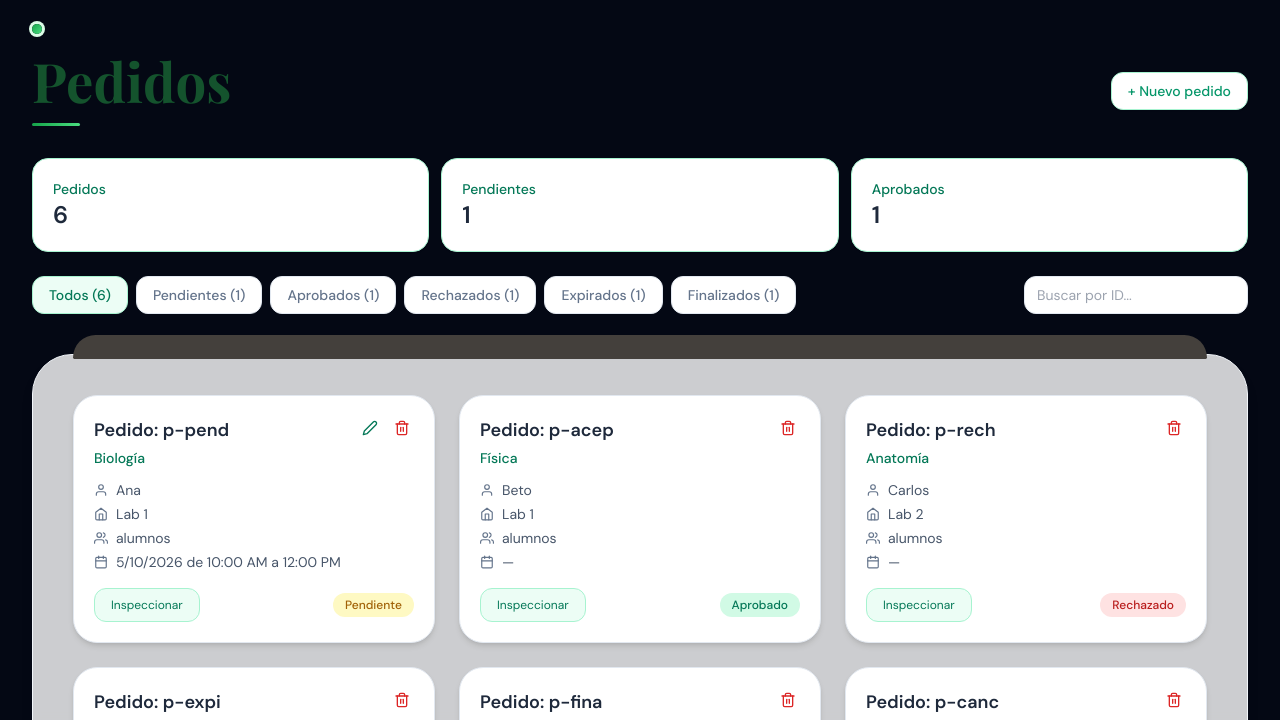
Test: Pedidos — filtros y estados › avisa si no hay permisos para eliminar
The width and height of the screenshot is (1280, 720).
Expected: the text "Biología" is shown, [94,449,145,467]
Click the button titled "Eliminar pedido" in the row of "p-pend" at (402, 428), box [390,416,414,440]
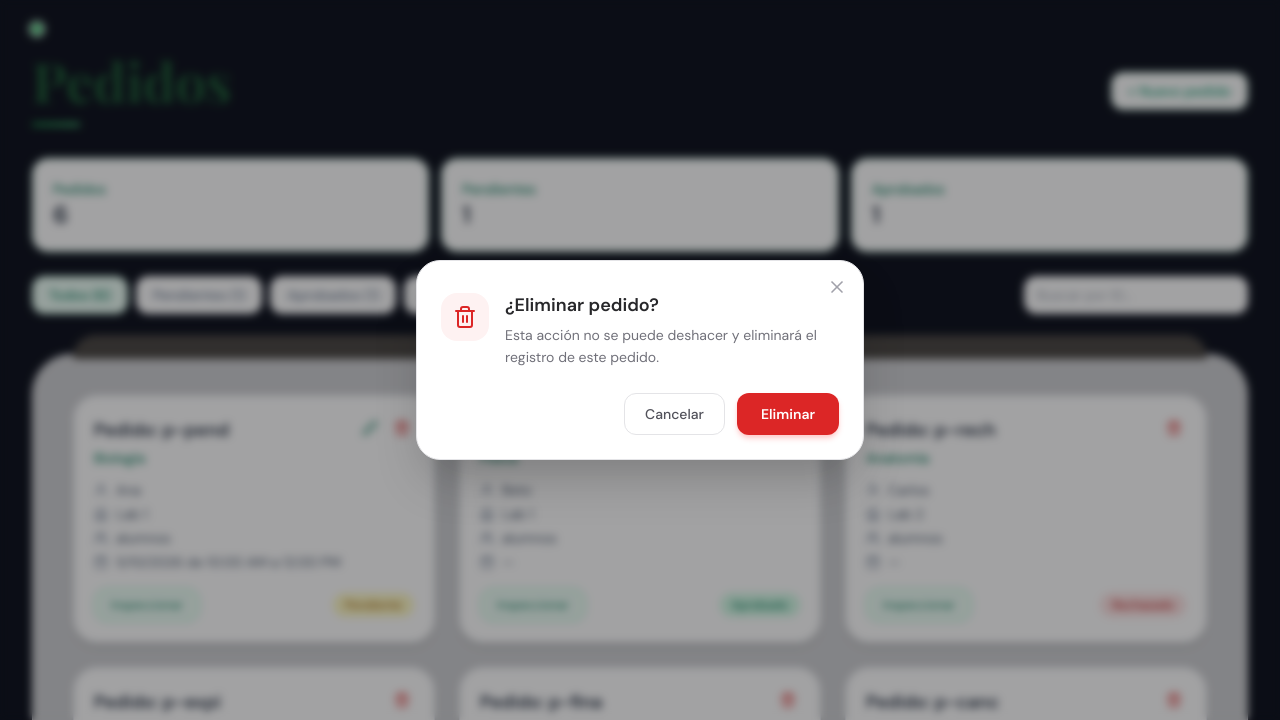
Click the button "Eliminar" at (788, 414), box [737,393,839,435]
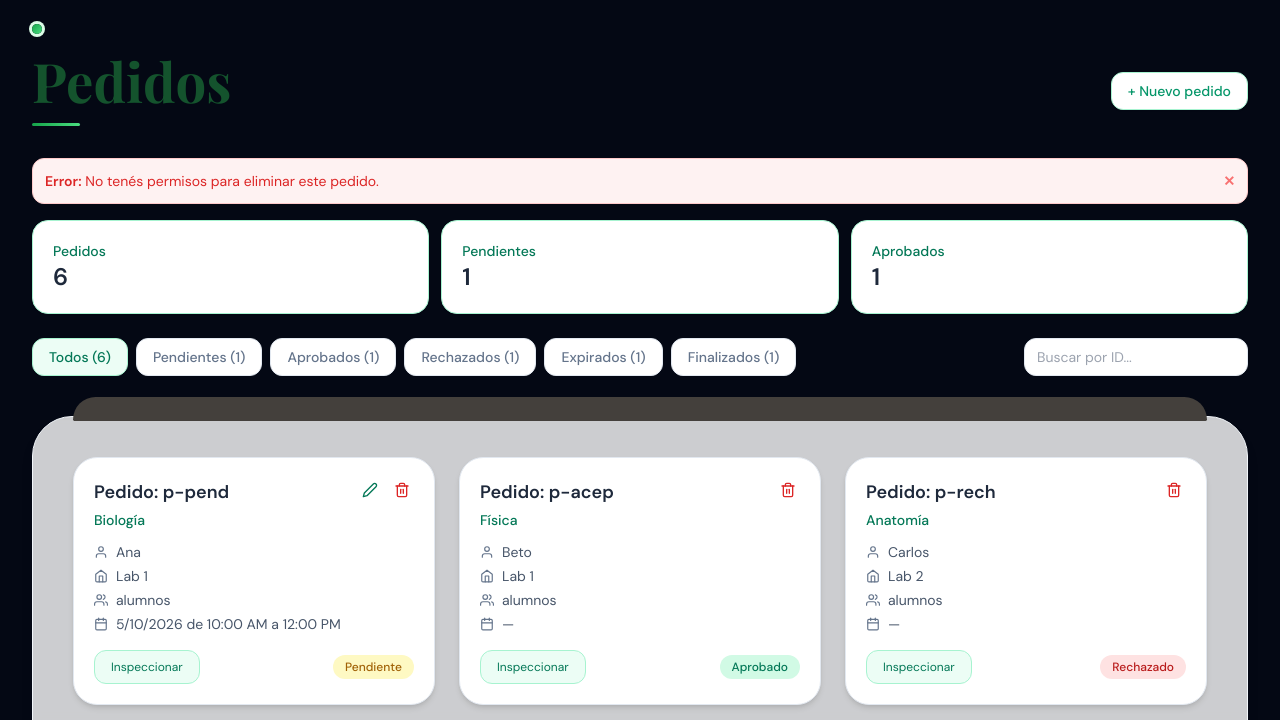
Expected: the text "Biología" is shown, [94,511,145,529]
Now the text "No tenés permisos para eliminar este pedido." is shown, box [85,172,379,190]
